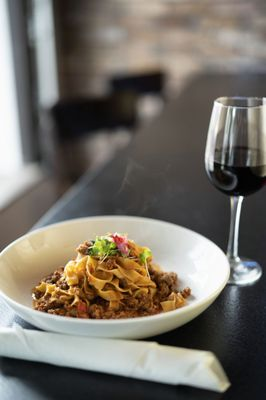curry: (87, 236, 120, 260)
sushi: (0, 214, 227, 340)
